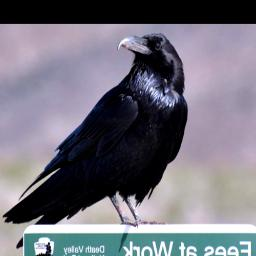Crow: (1, 32, 188, 252)
